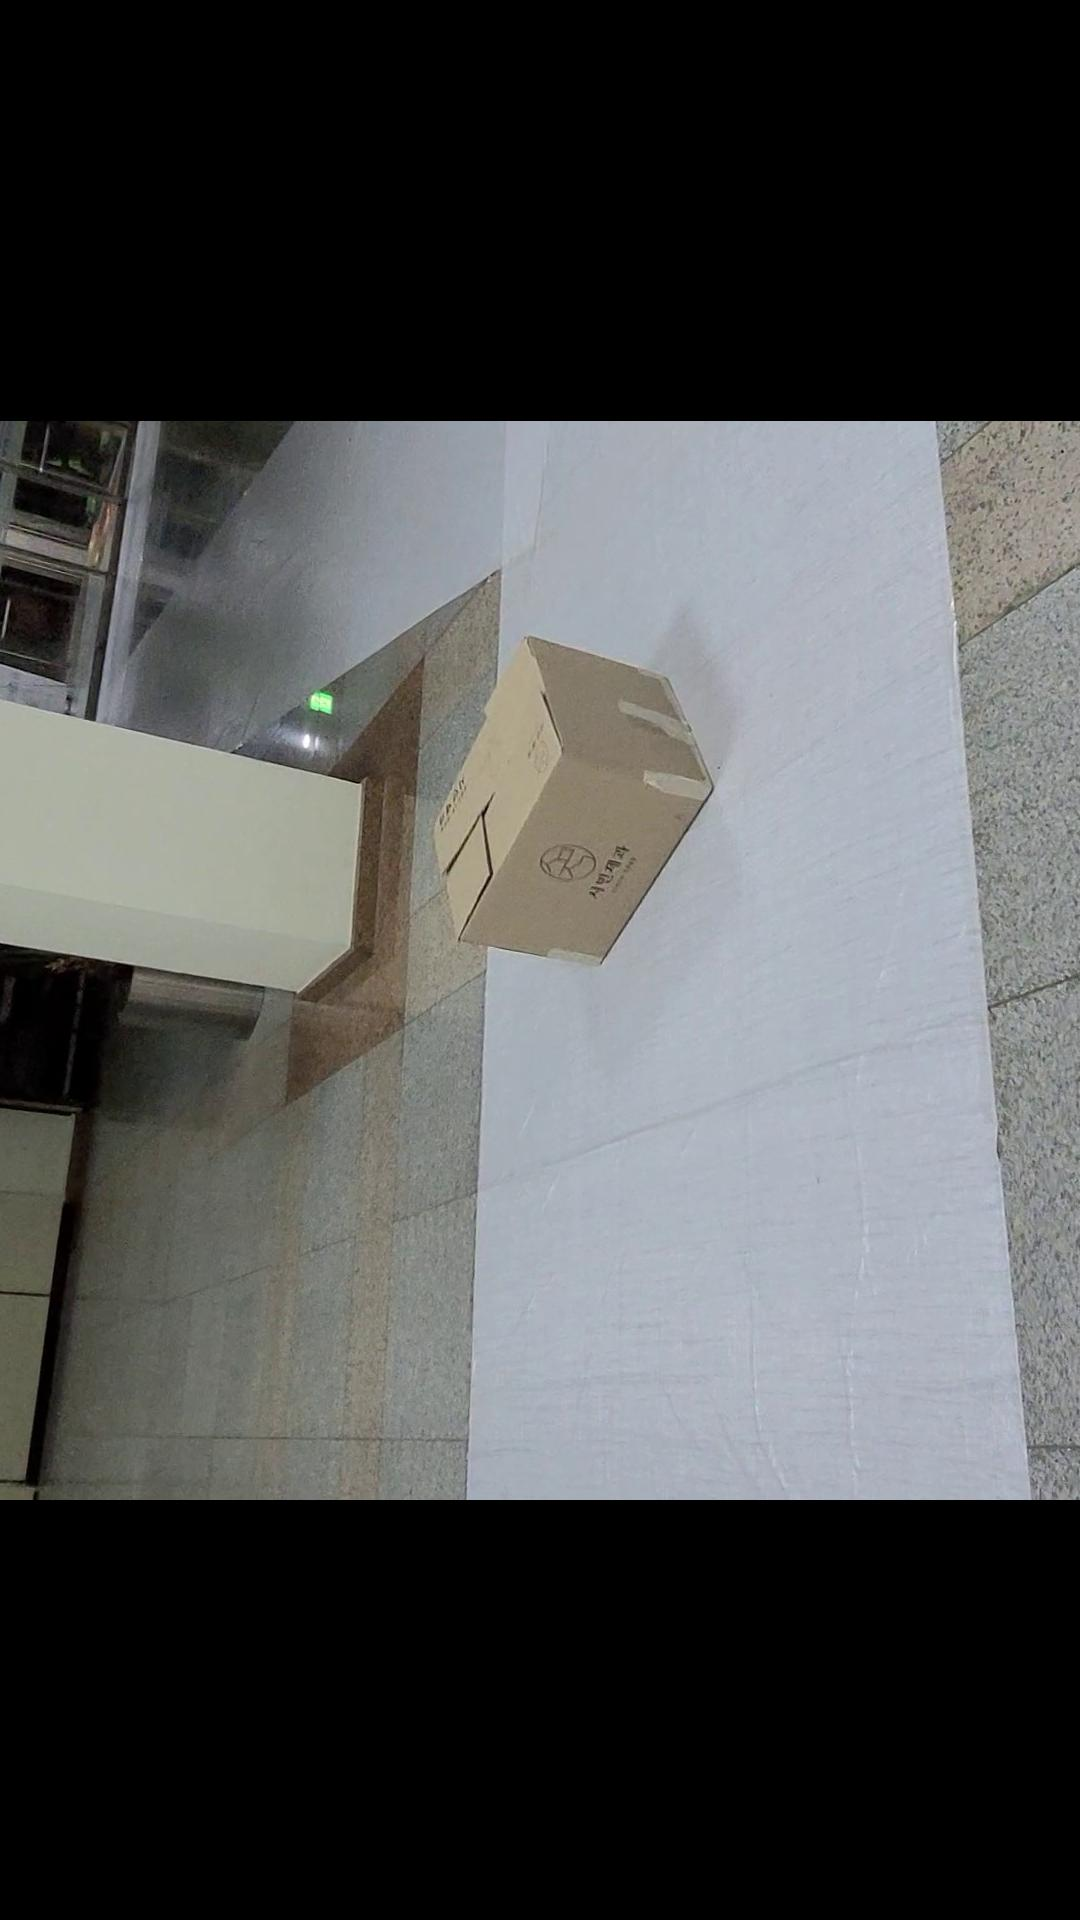Box: (423, 622, 738, 972)
